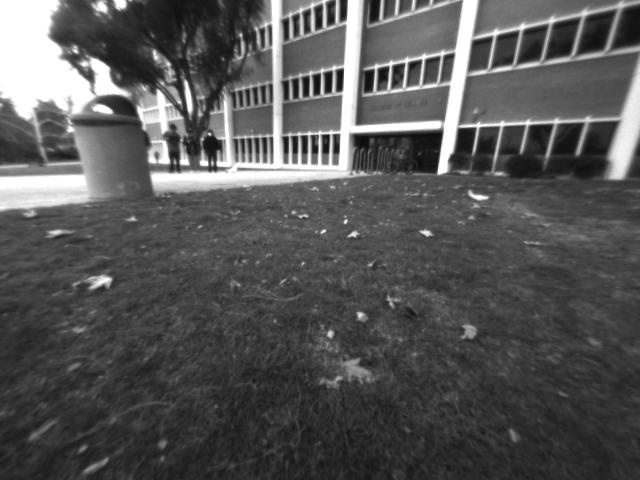trashcan: (57, 88, 170, 216)
